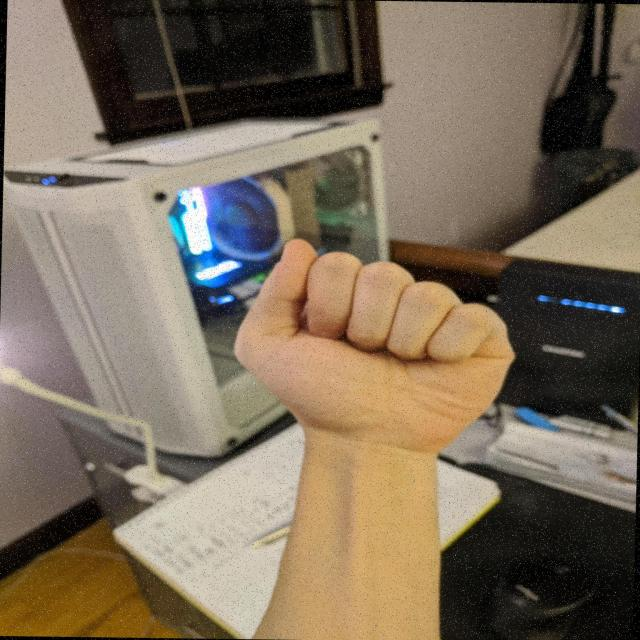A: (223, 234, 528, 455)
